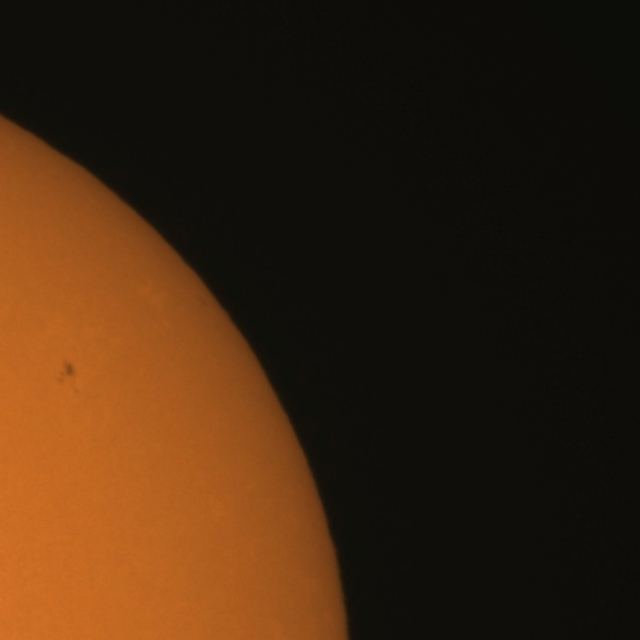sunspot: (56, 360, 80, 397)
